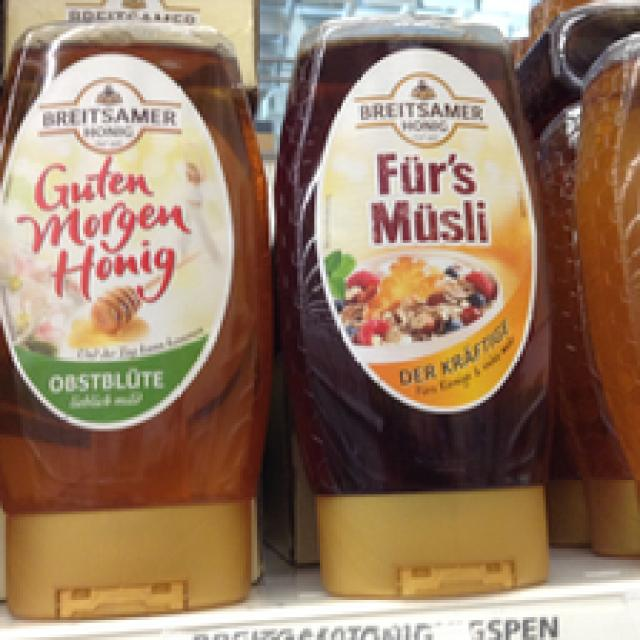groceries: (277, 14, 574, 606), (0, 20, 269, 614)
